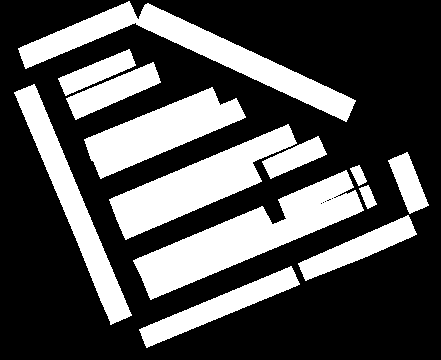parkingspot: (14, 84, 131, 324), (136, 3, 355, 121), (142, 193, 354, 299), (109, 124, 296, 218), (139, 266, 299, 347), (92, 98, 245, 178), (116, 162, 261, 239), (133, 206, 272, 279), (84, 87, 220, 160), (18, 1, 138, 68), (298, 215, 416, 280), (66, 62, 160, 119), (278, 170, 353, 219), (58, 49, 135, 95), (262, 136, 326, 178), (388, 152, 428, 213), (346, 190, 363, 214), (359, 185, 376, 208), (350, 165, 366, 185)
